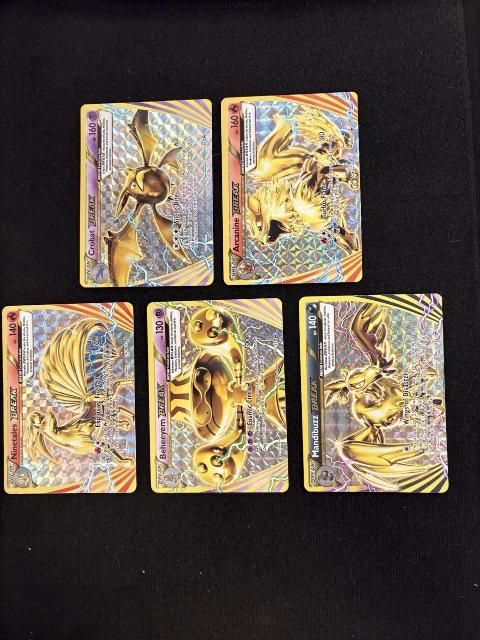Card: (296, 290, 453, 498), (218, 88, 369, 289), (143, 295, 292, 497), (0, 299, 141, 498), (78, 95, 218, 292)
Name: (150, 375, 171, 465), (306, 374, 322, 463), (5, 380, 21, 461), (227, 176, 242, 255), (85, 193, 99, 259)
